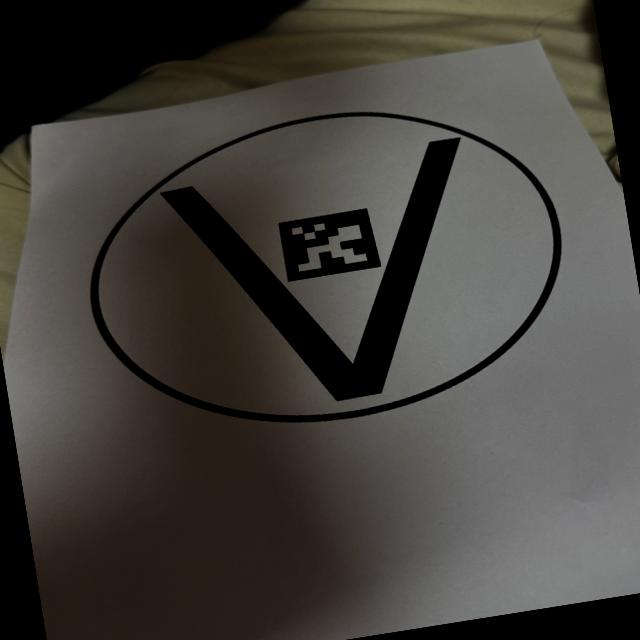vertiport: (44, 69, 606, 471)
